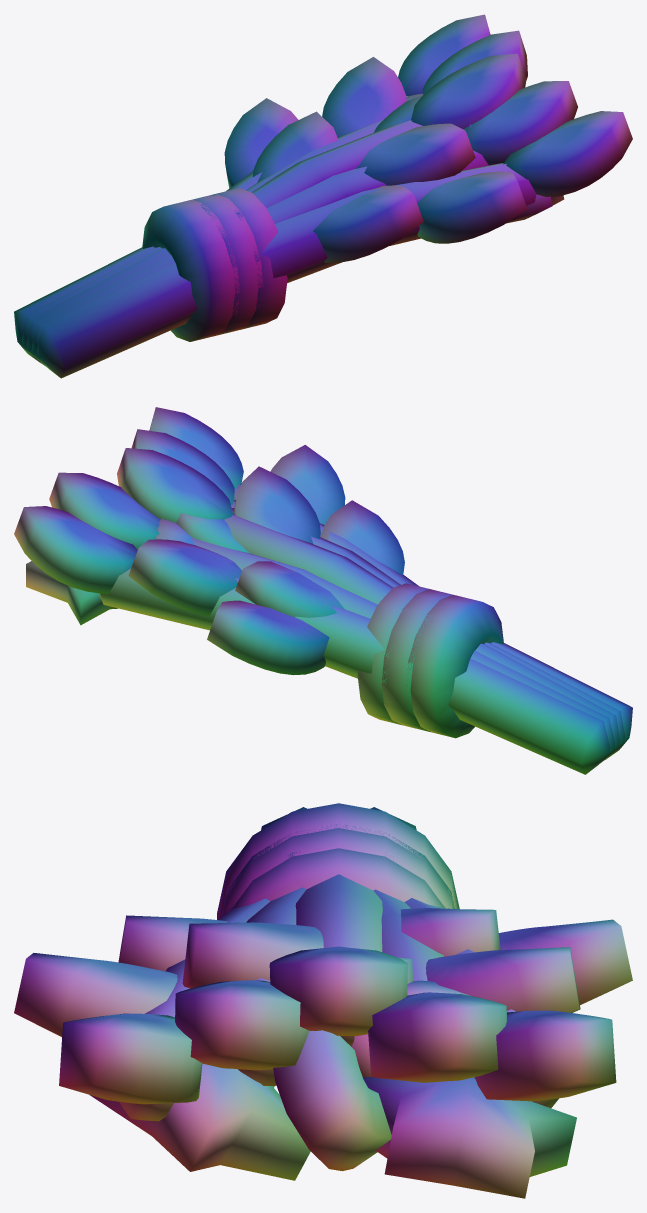
The model's file is SM_Pickup_Quest_Herb.fbx.
3 renders of one model, top to bottom at view 1: azimuth 30°, elevation 25°; view 2: azimuth 150°, elevation 25°; view 3: azimuth 270°, elevation 25°, orthographic. The views are drawn at different scales.
Parts seen in each view (by area): view 1: SM_Pickup_Quest_Herb; view 2: SM_Pickup_Quest_Herb; view 3: SM_Pickup_Quest_Herb.
Boxes of the visible parts, <box> form: SM_Pickup_Quest_Herb: <box>14,14,632,378</box>; SM_Pickup_Quest_Herb: <box>14,407,632,774</box>; SM_Pickup_Quest_Herb: <box>14,803,632,1198</box>.
Size of the model in its own units: 0.3642 by 0.13 by 0.207.
